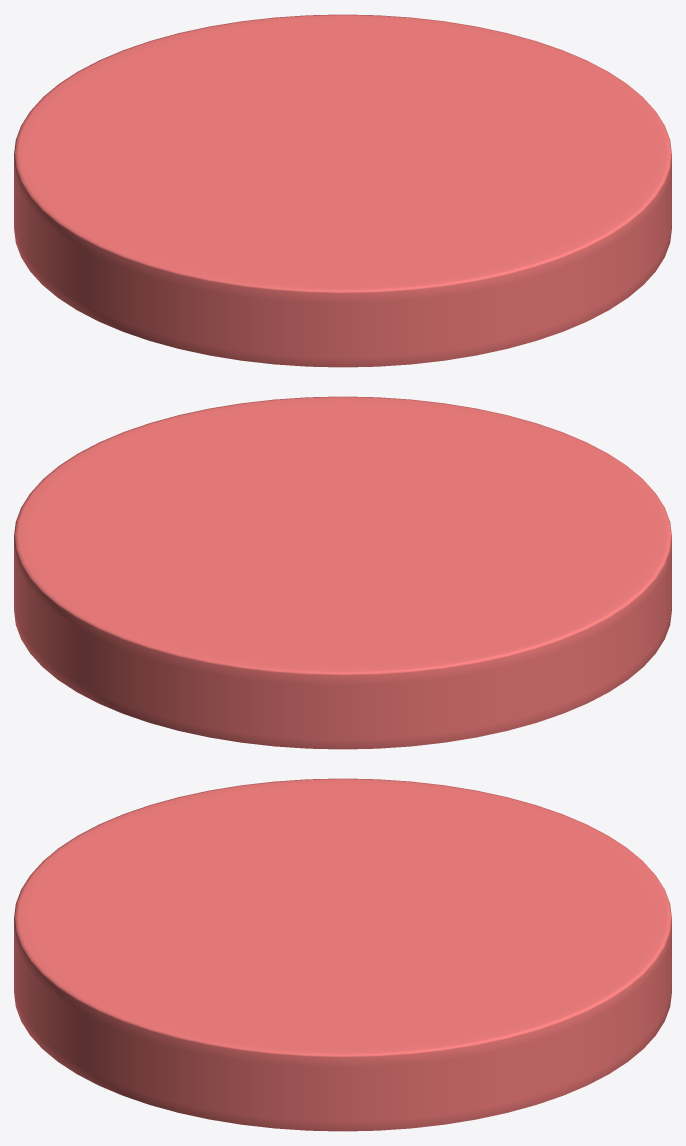
Rendered from Door_Rotate 1.fbx.
3 renders of one model, top to bottom at view 1: azimuth 30°, elevation 25°; view 2: azimuth 150°, elevation 25°; view 3: azimuth 270°, elevation 25°, orthographic.
Parts seen in each view (by area): view 1: Cylinder002; view 2: Cylinder002; view 3: Cylinder002.
Boxes of the visible parts, left/top/right/bottom form: Cylinder002: left=14, top=14, right=671, bottom=367; Cylinder002: left=14, top=396, right=671, bottom=749; Cylinder002: left=14, top=778, right=671, bottom=1131.
Size of the model in its own units: 54.92 by 7.97 by 54.92.
